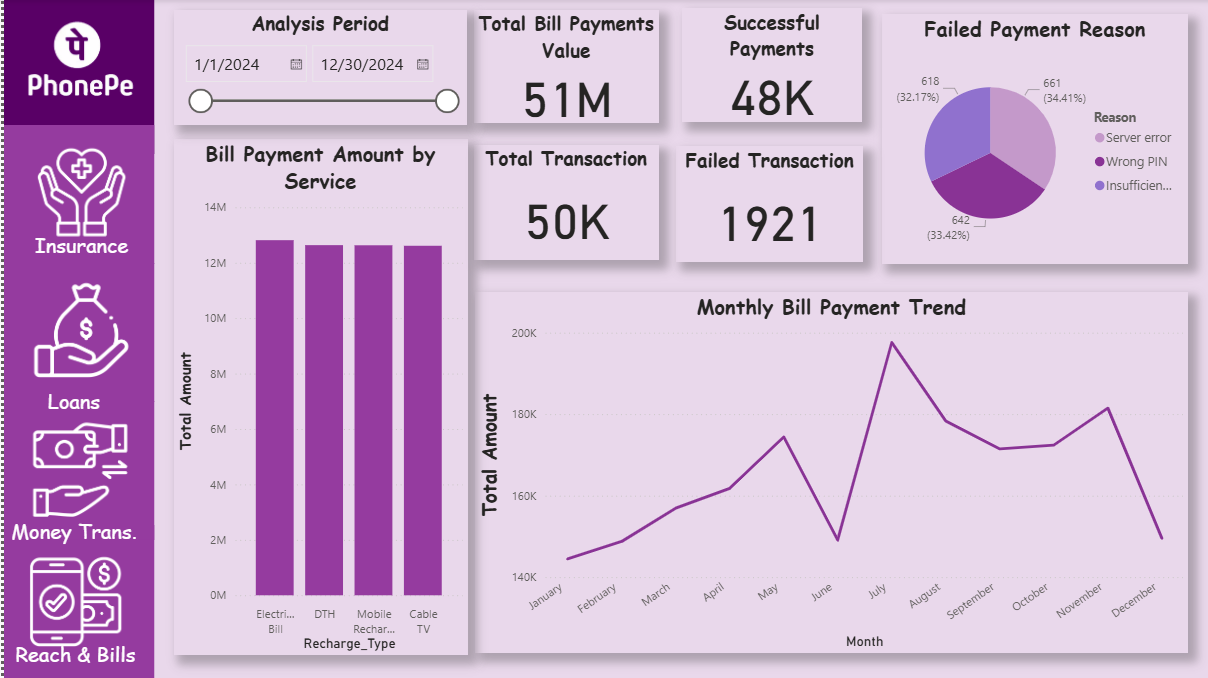

What the dashboard file says about the page in this screenshot:
{"tool":"powerbi","page":{"name":"Recharge & Bills","canvas":[1280,720],"ordinal":5},"visuals":[{"type":"shape","box":[0,0,159.4,164.1],"z":0},{"type":"shape","box":[0,132.9,159.4,146.9],"z":1000},{"type":"shape","box":[0,279.8,159.4,146.9],"z":2000},{"type":"shape","box":[0,558,159.4,162.6],"z":3000},{"type":"shape","box":[0,426.7,159.4,146.9],"z":4000},{"type":"image","box":[12.5,10.9,136,111],"z":5000},{"type":"image","box":[14.1,150,136,111],"z":6000},{"type":"image","box":[15.6,293.8,136,111],"z":7000},{"type":"image","box":[7.8,583,136,111],"z":8000},{"type":"image","box":[12.5,443.9,136,111],"z":9000},{"type":"textbox","box":[7.8,240.7,148.5,39.1],"z":10000},{"type":"textbox","box":[0,404.8,148.5,39.1],"z":11000},{"type":"textbox","box":[0,543.9,148.5,39.1],"z":12000},{"type":"textbox","box":[1.6,673.6,148.5,39.1],"z":13000},{"type":"slicer","title":"Analysis Period","fields":{"Values":["Recharge_Bills.Date"]},"box":[179.7,10.9,311,121.9],"z":14000},{"type":"card","title":"Total Bill Payments Value","fields":{"Values":["Sum(Recharge_Bills.Amount)"]},"box":[498.3,10.7,196.5,120.9],"z":15000},{"type":"card","title":"Successful Payments","fields":{"Values":["CountNonNull(Recharge_Bills.Transaction_ID)"]},"box":[719.4,8.8,190.9,120.9],"z":16000},{"type":"card","title":"Total Transaction","fields":{"Values":["CountNonNull(Recharge_Bills.Transaction_ID)"]},"box":[498.3,154.3,196.5,122.8],"z":17000},{"type":"card","title":"Failed Transaction","fields":{"Values":["CountNonNull(Recharge_Bills.Transaction_ID)"]},"box":[711.8,156.2,198.4,122.8],"z":18000},{"type":"pieChart","title":"Failed Payment Reason","fields":{"Category":["Recharge_Bills.Reason"],"Y":["CountNonNull(Recharge_Bills.Reason)"]},"box":[929.8,15.1,325,264.6],"z":19000},{"type":"actionButton","box":[1.6,144.7,151.1,133.6],"z":20000},{"type":"actionButton","box":[8,443.8,149.5,140],"z":21000},{"type":"lineChart","title":"Monthly Bill Payment Trend","fields":{"Category":["Recharge_Bills.Date.Variation.Date Hierarchy.Month"],"Y":["Sum(Recharge_Bills.Amount)"]},"box":[498.9,309.9,755.9,383.6],"z":22000},{"type":"clusteredColumnChart","title":"Bill Payment Amount by Service","fields":{"Category":["Recharge_Bills.Recharge_Type"],"Y":["Sum(Recharge_Bills.Amount)"]},"box":[179.5,147.4,311.8,548],"z":23000},{"type":"actionButton","box":[1.6,291.1,151.1,152.7],"z":24000},{"type":"actionButton","box":[6.4,8,149.5,122.5],"z":25000}]}

Visuals, with their boxes in screenshot pixels (x1, y1, x2, y2), scaled from the page's 1280x720 canvas onto the 1208x678 screenshot:
shape: locate(0, 0, 150, 155)
shape: locate(0, 125, 150, 263)
shape: locate(0, 263, 150, 402)
shape: locate(0, 525, 150, 677)
shape: locate(0, 402, 150, 540)
image: locate(12, 10, 140, 115)
image: locate(13, 141, 142, 246)
image: locate(15, 277, 143, 381)
image: locate(7, 549, 136, 654)
image: locate(12, 418, 140, 523)
textbox: locate(7, 227, 148, 263)
textbox: locate(0, 381, 140, 418)
textbox: locate(0, 512, 140, 549)
textbox: locate(2, 634, 142, 671)
"Analysis Period" slicer: locate(170, 10, 463, 125)
"Total Bill Payments Value" card: locate(470, 10, 656, 124)
"Successful Payments" card: locate(679, 8, 859, 122)
"Total Transaction" card: locate(470, 145, 656, 261)
"Failed Transaction" card: locate(672, 147, 859, 263)
"Failed Payment Reason" pieChart: locate(877, 14, 1184, 263)
actionButton: locate(2, 136, 144, 262)
actionButton: locate(8, 418, 149, 550)
"Monthly Bill Payment Trend" lineChart: locate(471, 292, 1184, 653)
"Bill Payment Amount by Service" clusteredColumnChart: locate(169, 139, 464, 655)
actionButton: locate(2, 274, 144, 418)
actionButton: locate(6, 8, 147, 123)
